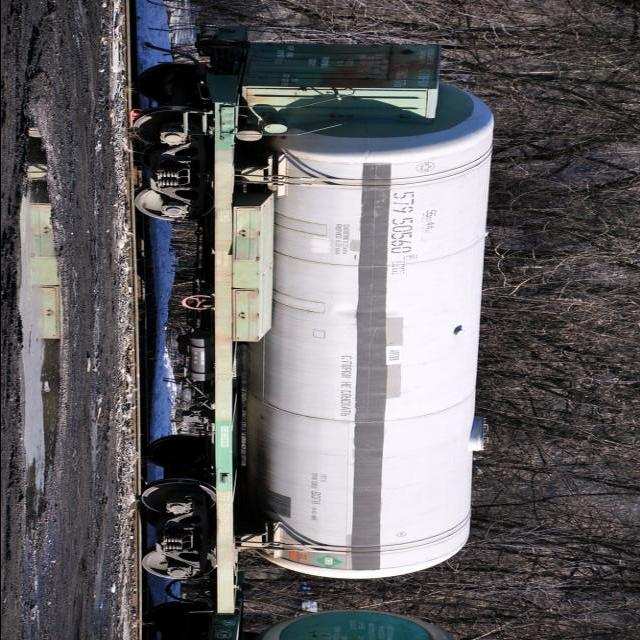wagon: (380, 188, 420, 256)
